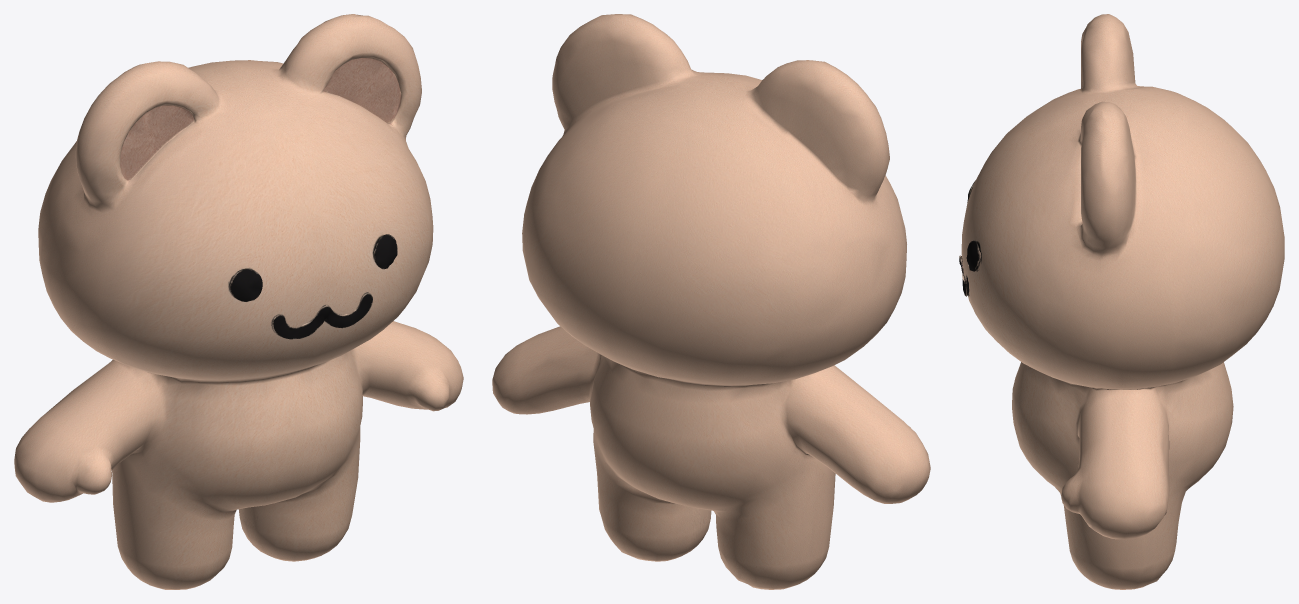
Rendered from Meshy_AI_Cuddly_Cub_20261126_texture.fbx.
3 views of the same model, side by side, from view 1: azimuth 30°, elevation 25°; view 2: azimuth 150°, elevation 25°; view 3: azimuth 270°, elevation 25° (orthographic). The views are drawn at different scales.
Visible parts, largest first — view 1: Mesh_0; view 2: Mesh_0; view 3: Mesh_0.
Part boxes in pixels (x1,y1,x2,y2): Mesh_0: (14,14,463,589); Mesh_0: (492,14,930,589); Mesh_0: (959,14,1284,589).
Bounding box in the file's own units: 82.32 × 95.17 × 57.37.
1 material, 1 textured.
